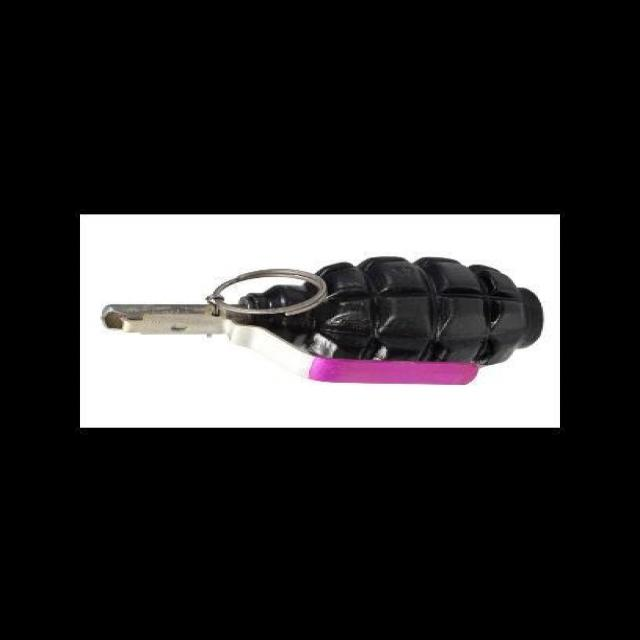Grenade: (99, 255, 543, 385)
